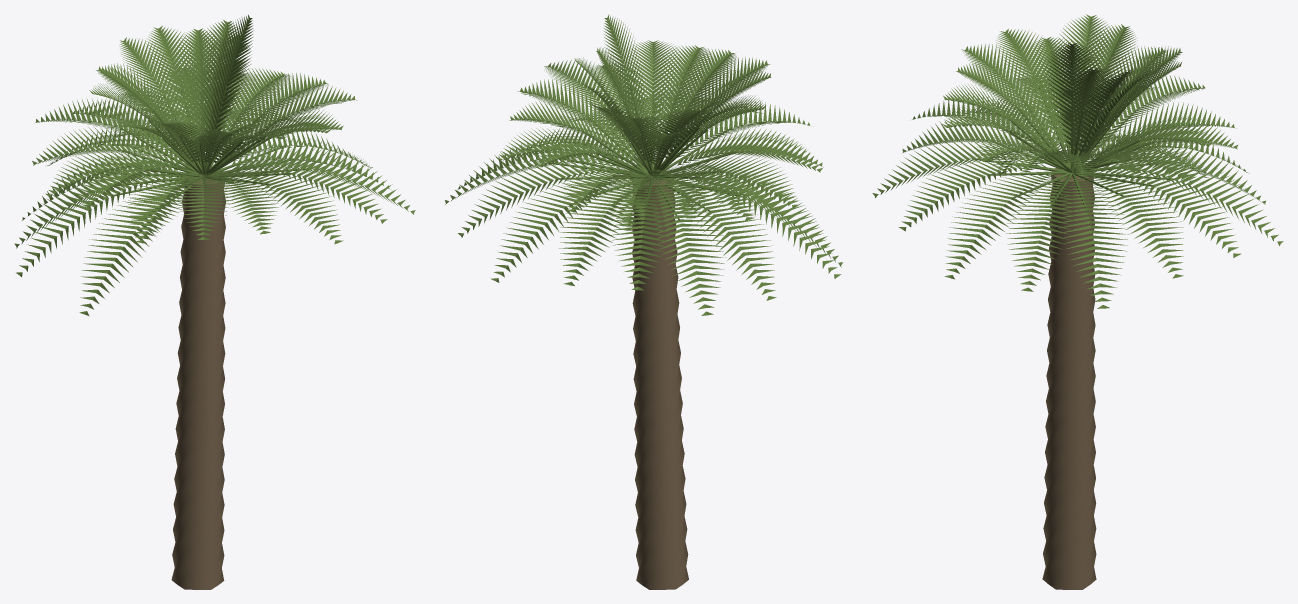
Rendered from palm.glb.
3 views of the same model, side by side, from view 1: azimuth 30°, elevation 25°; view 2: azimuth 150°, elevation 25°; view 3: azimuth 270°, elevation 25° (orthographic). The views are drawn at different scales.
Parts seen in each view (by area): view 1: palm-palm-frond, palm-palm-trunk; view 2: palm-palm-frond, palm-palm-trunk; view 3: palm-palm-frond, palm-palm-trunk.
Boxes of the visible parts, x1,y1,x2,y2 form: palm-palm-frond: [14, 14, 415, 315]; palm-palm-trunk: [171, 175, 225, 589]; palm-palm-frond: [445, 14, 842, 315]; palm-palm-trunk: [632, 171, 688, 589]; palm-palm-frond: [872, 14, 1283, 308]; palm-palm-trunk: [1042, 164, 1096, 589].
Bounding box in the file's own units: 6.79 × 9.76 × 6.45.
